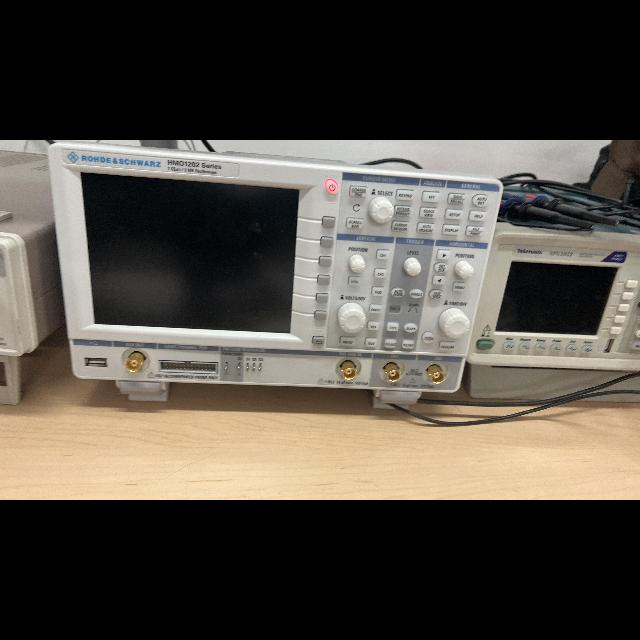Digital-Oscilloscope: (48, 143, 501, 404)
